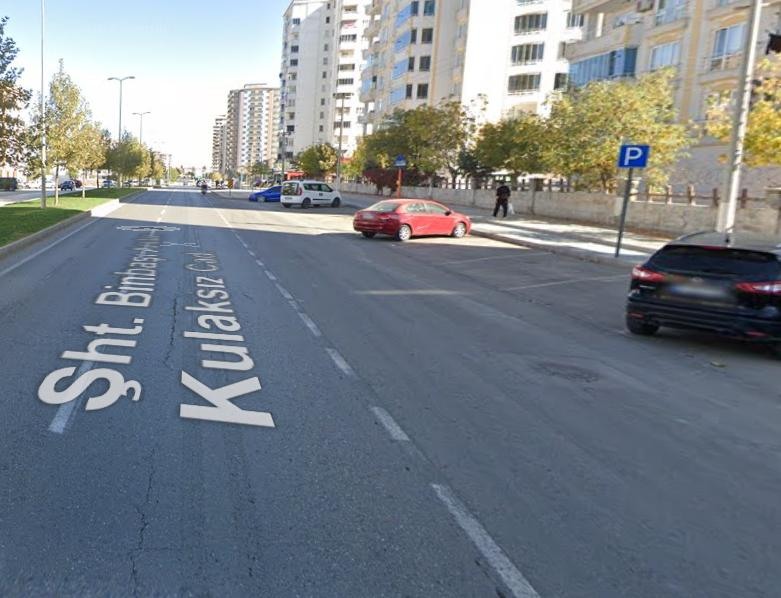park: (620, 143, 648, 170)
